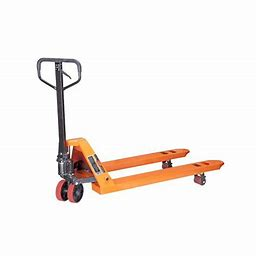Pallet Jack: (34, 56, 227, 206)
